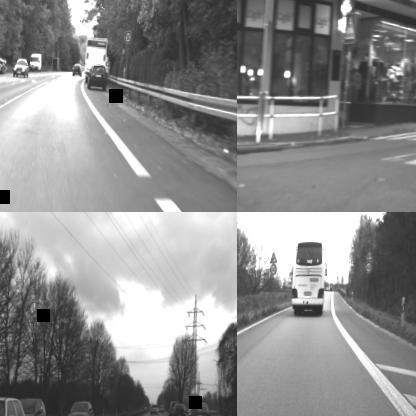bend: (364, 247, 374, 261), (269, 250, 278, 264)
speed limit 50: (124, 30, 132, 45)
speed limit 60: (364, 260, 372, 274), (270, 262, 278, 274)
